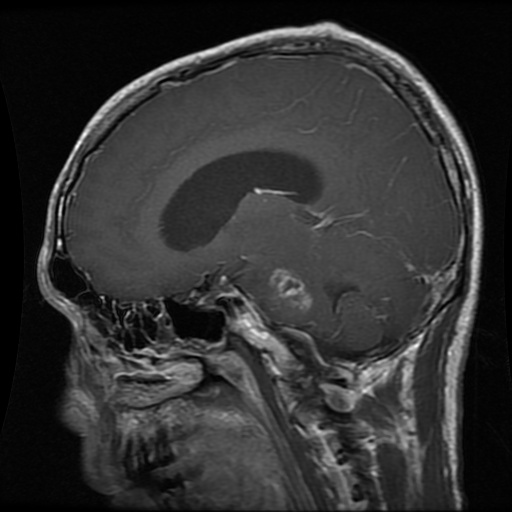glioma: (268, 271, 311, 314)
